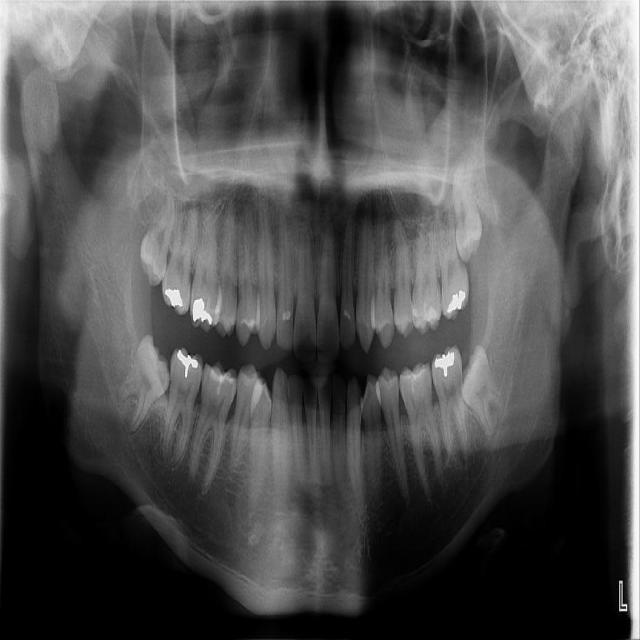3M ESPE Implant: (134, 167, 182, 289)
52: (199, 362, 239, 418), (166, 347, 204, 404), (429, 344, 464, 400), (161, 256, 192, 317), (441, 258, 470, 322), (399, 361, 434, 413), (190, 276, 222, 332), (412, 280, 443, 333), (276, 293, 294, 351), (341, 298, 356, 350)
73: (606, 563, 610, 572)
BioHorizons Implant: (432, 193, 472, 321)
BioLife Implant: (447, 150, 486, 264)
Biomet 3i Implant: (445, 343, 517, 442)
Caries: (159, 171, 201, 316), (429, 343, 473, 469)
Implant: (160, 345, 205, 469)
Keystone Dental Implant: (102, 331, 186, 442)
